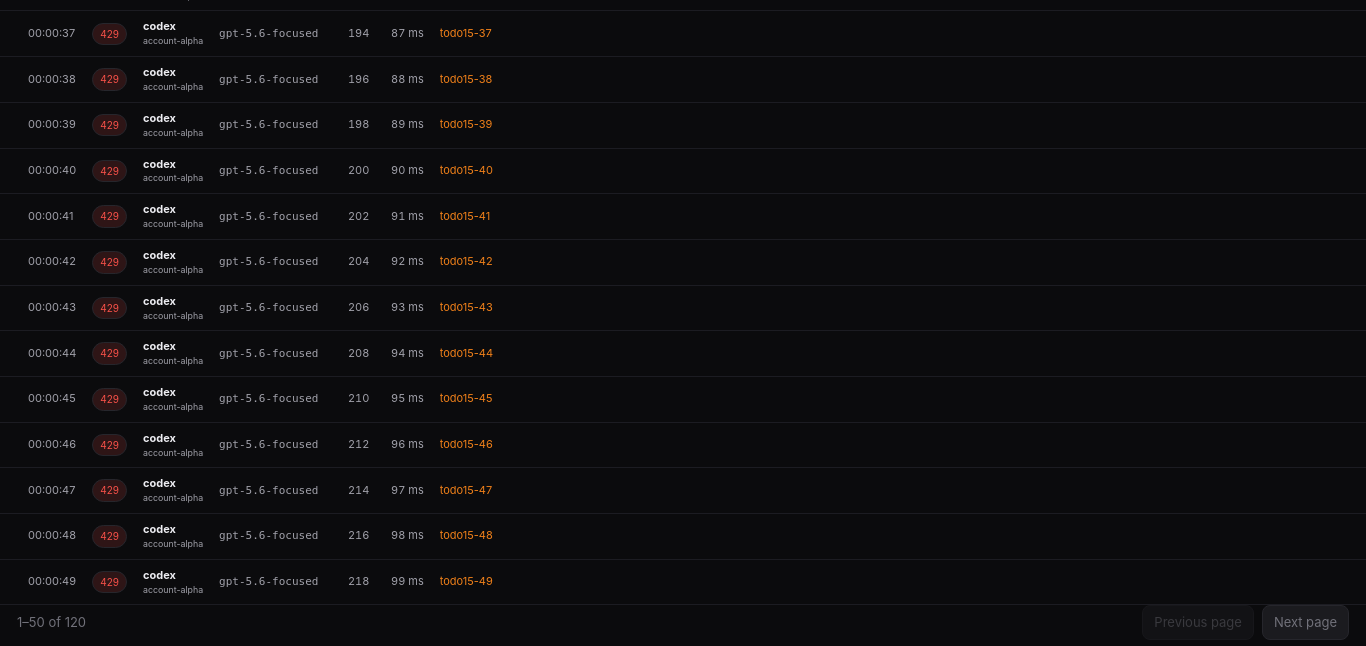
Scenario: Durable Logs presentation contract › pages bounded history with exact cursor and limit and can return to the previous page
The width and height of the screenshot is (1366, 646).
(page scrolled)
Click the button with aria-label "next history page".
click(1305, 623)  # box [1262, 605, 1349, 640]
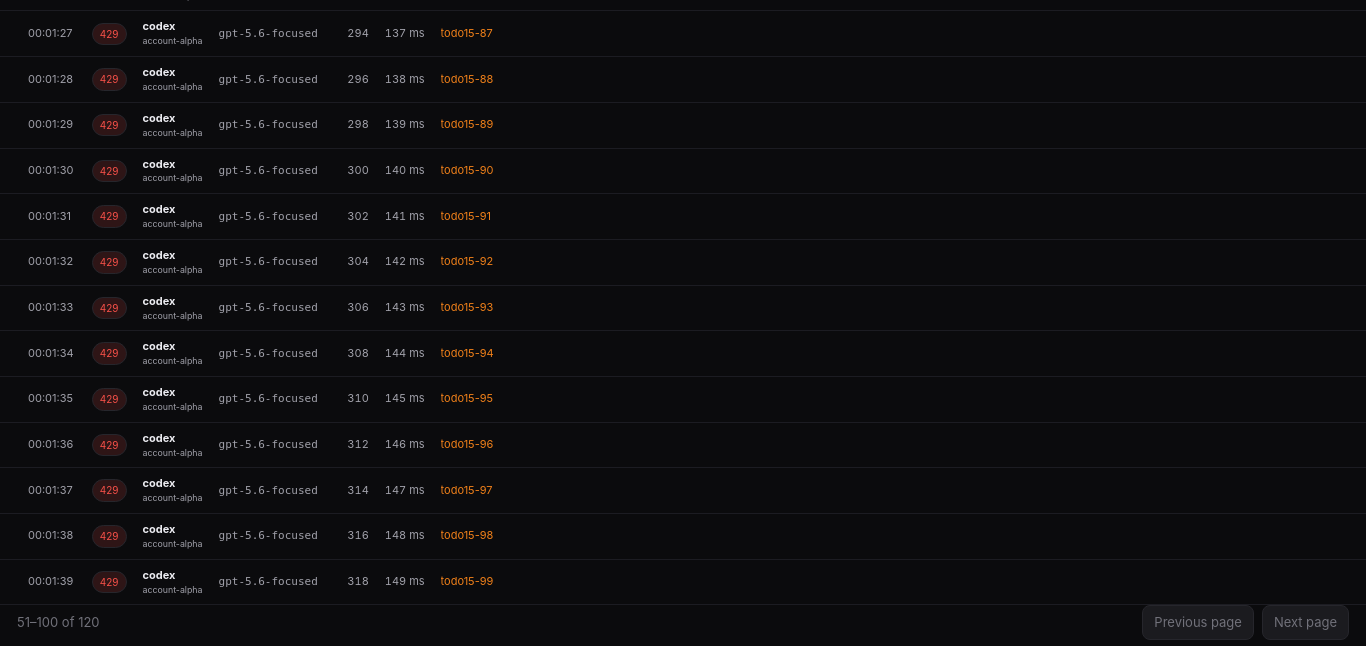
Click the button with aria-label "previous history page".
click(1198, 623)  # box [1142, 605, 1254, 640]
(page scrolled)
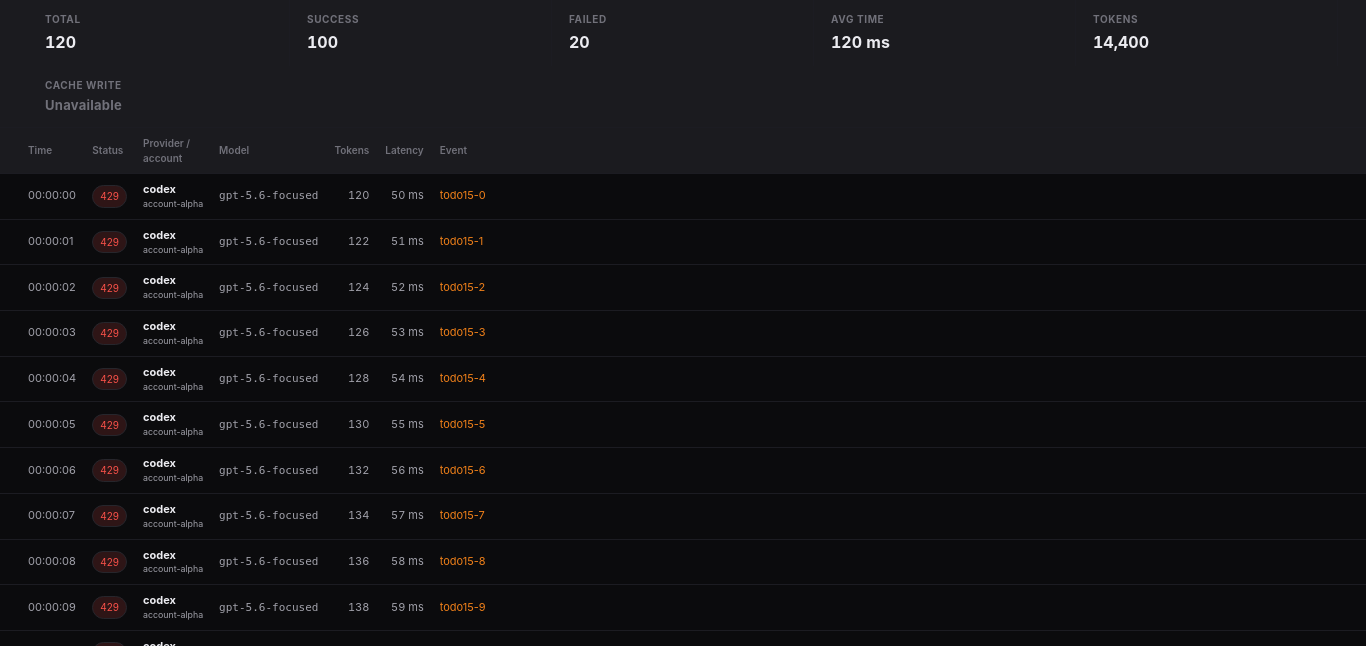
Check: the button "todo15-0" is shown, box [440, 188, 1338, 204]
